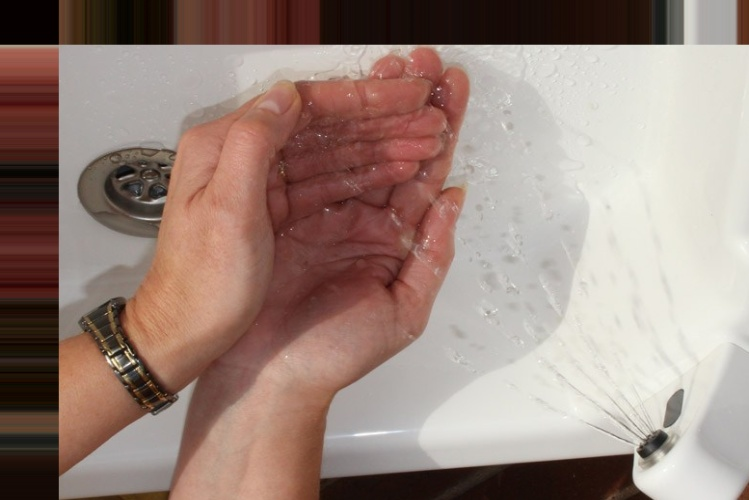washing hand: (116, 53, 741, 486)
